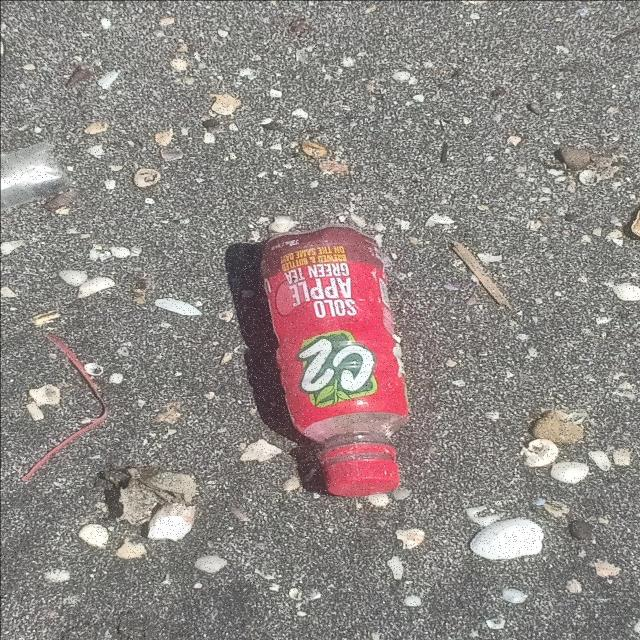plastic_waste: (259, 222, 414, 499)
